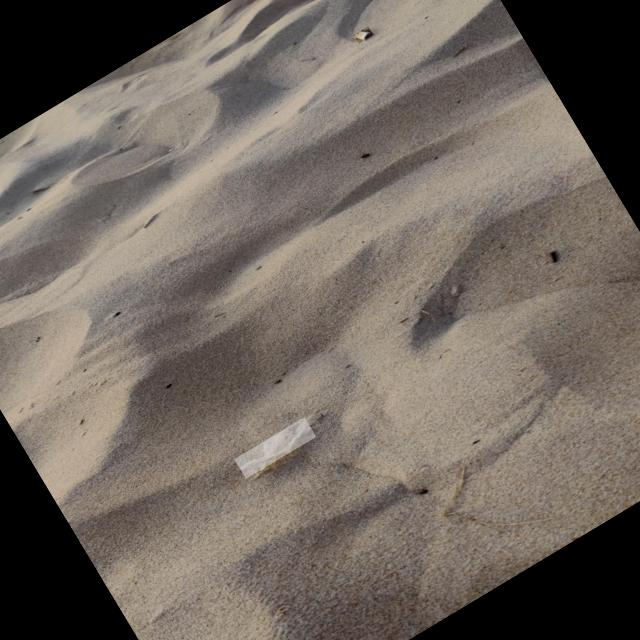Cigarette: (356, 32, 372, 40)
Plastic film: (240, 427, 311, 474)
